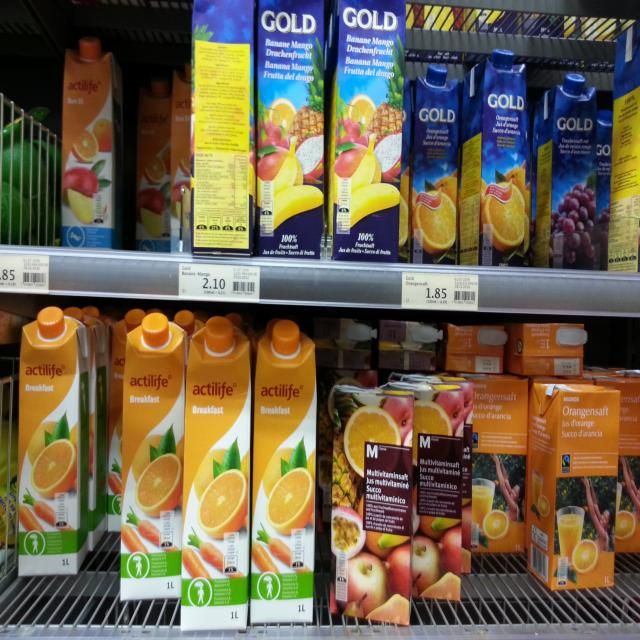Juices: (181, 315, 252, 624), (329, 381, 412, 629), (250, 317, 317, 622), (17, 309, 88, 576), (121, 311, 187, 597), (529, 379, 617, 592), (256, 1, 328, 258), (330, 0, 399, 265), (188, 0, 255, 257), (393, 376, 461, 603), (466, 46, 531, 268), (450, 370, 526, 556), (61, 33, 119, 248), (536, 70, 598, 268), (412, 61, 458, 271), (599, 373, 640, 554)
